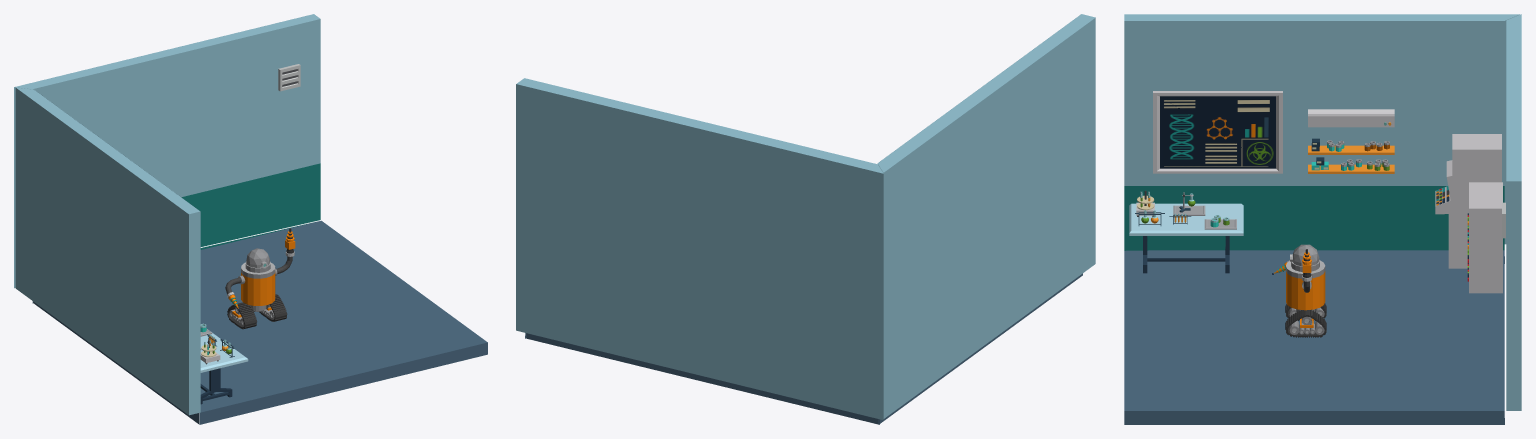
The model's file is lab.fbx.
3 renders of one model, left to right at view 1: azimuth 30°, elevation 25°; view 2: azimuth 150°, elevation 25°; view 3: azimuth 270°, elevation 25°, orthographic. The views are drawn at different scales.
Visible parts, largest first — view 1: SM_Room.001, SM_Room.002, SM_Room.006, Icosphere.002, Cube.006, Cube.009, Cube.019; view 2: SM_Room.001, SM_Room.002, SM_Room.006; view 3: SM_Room.002, SM_Room.006, Cube.010, SM_Room.001, Cube, Cube.051, Icosphere.002, Cube.006, Cube.007, Cube.009, Cube.008, Cube.020.
Boxes of the visible parts, x1=… form: SM_Room.001: x1=14, y1=14, x2=320, y2=288; SM_Room.002: x1=15, y1=87, x2=200, y2=415; SM_Room.006: x1=32, y1=220, x2=487, y2=424; Icosphere.002: x1=225, y1=228, x2=295, y2=329; Cube.006: x1=200, y1=329, x2=248, y2=372; Cube.009: x1=200, y1=368, x2=232, y2=404; Cube.019: x1=278, y1=64, x2=300, y2=91; SM_Room.001: x1=516, y1=78, x2=883, y2=420; SM_Room.002: x1=877, y1=14, x2=1095, y2=418; SM_Room.006: x1=525, y1=273, x2=1082, y2=424; SM_Room.002: x1=1124, y1=14, x2=1519, y2=250; SM_Room.006: x1=1124, y1=245, x2=1504, y2=424; Cube.010: x1=1153, y1=91, x2=1282, y2=173; SM_Room.001: x1=1506, y1=14, x2=1521, y2=410; Cube: x1=1435, y1=134, x2=1501, y2=268; Cube.051: x1=1467, y1=182, x2=1502, y2=293; Icosphere.002: x1=1272, y1=244, x2=1326, y2=337; Cube.006: x1=1129, y1=203, x2=1243, y2=235; Cube.007: x1=1308, y1=109, x2=1394, y2=127; Cube.009: x1=1143, y1=236, x2=1229, y2=273; Cube.008: x1=1308, y1=145, x2=1394, y2=154; Cube.020: x1=1308, y1=164, x2=1394, y2=173.
Bounding box in the file's own units: 312 × 212 × 314.
46 materials, 1 textured.
